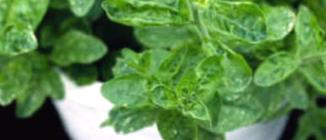Tomato leaf mosaic virus: (196, 0, 274, 44), (97, 0, 182, 29), (252, 48, 308, 91), (0, 26, 39, 56), (138, 87, 180, 109)
